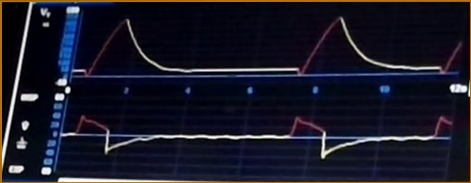Flow: (66, 105, 452, 174)
Leakage Volume: (78, 12, 461, 82)
